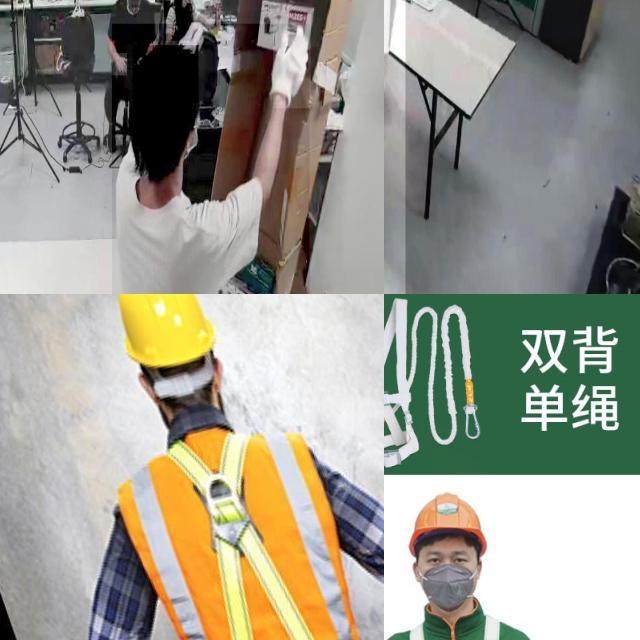Harness: (167, 433, 314, 640)
hand_glove: (273, 14, 311, 108)
hand_noglove: (112, 53, 128, 76)
head_nohelmet: (133, 45, 199, 104)
person: (112, 23, 310, 294), (104, 0, 153, 151), (164, 0, 194, 41)
